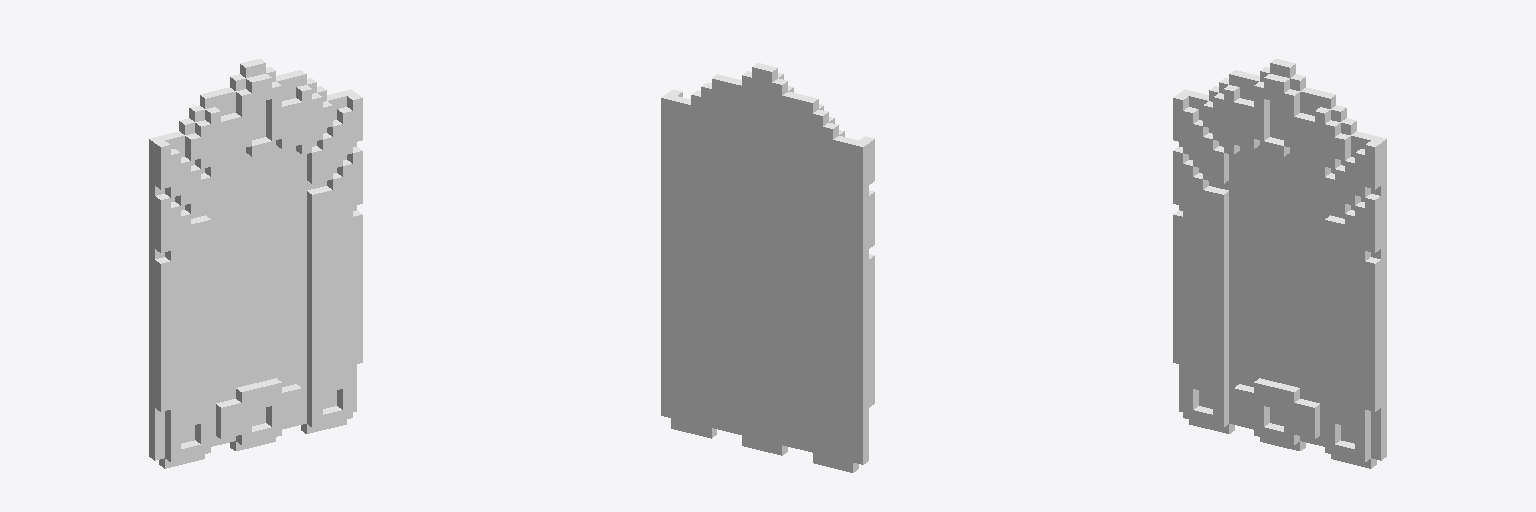
File: Object_WindowRed.obj
3 renders of one model, left to right at view 1: azimuth 30°, elevation 25°; view 2: azimuth 150°, elevation 25°; view 3: azimuth 330°, elevation 25°, orthographic.
Parts seen in each view (by area): view 1: object 1; view 2: object 1; view 3: object 1.
Boxes of the visible parts, x1=… form: object 1: x1=149, y1=59, x2=362, y2=468; object 1: x1=661, y1=63, x2=874, y2=472; object 1: x1=1173, y1=59, x2=1386, y2=468.
Bounding box in the file's own units: 2 × 3.6 × 0.2.